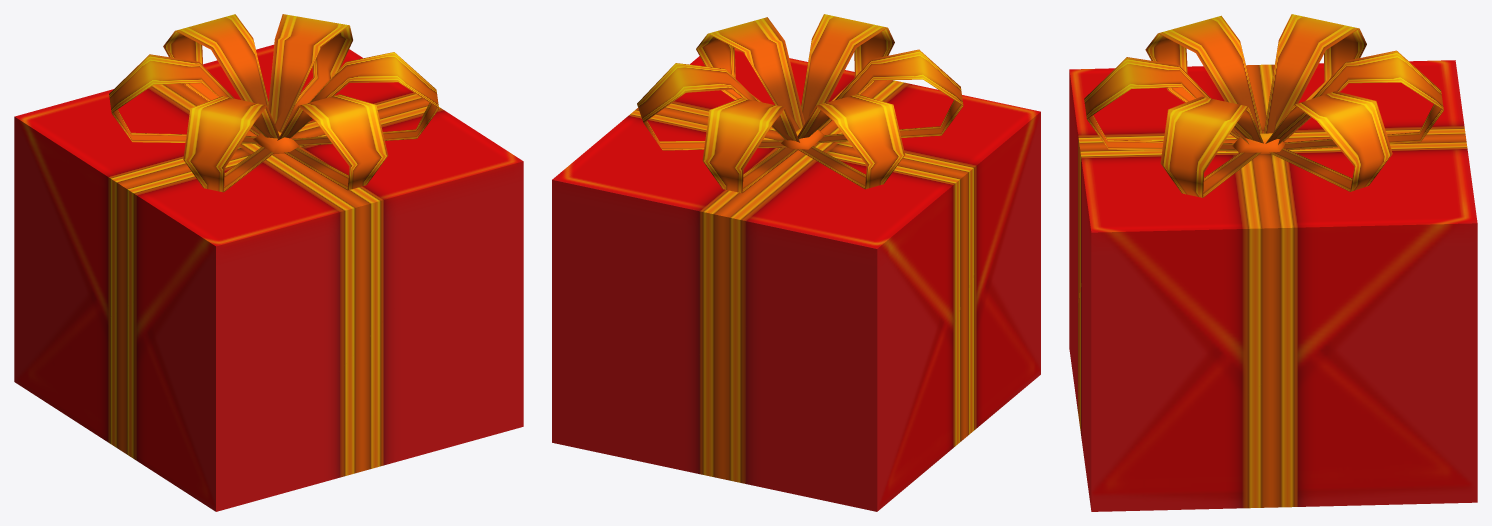
The model's file is Gift7.FBX.
The picture shows the model from 3 angles, left to right: view 1: azimuth 30°, elevation 25°; view 2: azimuth 150°, elevation 25°; view 3: azimuth 270°, elevation 25°; orthographic projection. The views are drawn at different scales.
Parts seen in each view (by area): view 1: Gift7; view 2: Gift7; view 3: Gift7.
Part boxes in pixels (bbox=[...]): Gift7: bbox=[14, 14, 523, 511]; Gift7: bbox=[552, 14, 1040, 511]; Gift7: bbox=[1069, 14, 1477, 511].
Bounding box in the file's own units: 15.33 × 14.8 × 15.33.
Materials: 1 (1 with a texture image).
